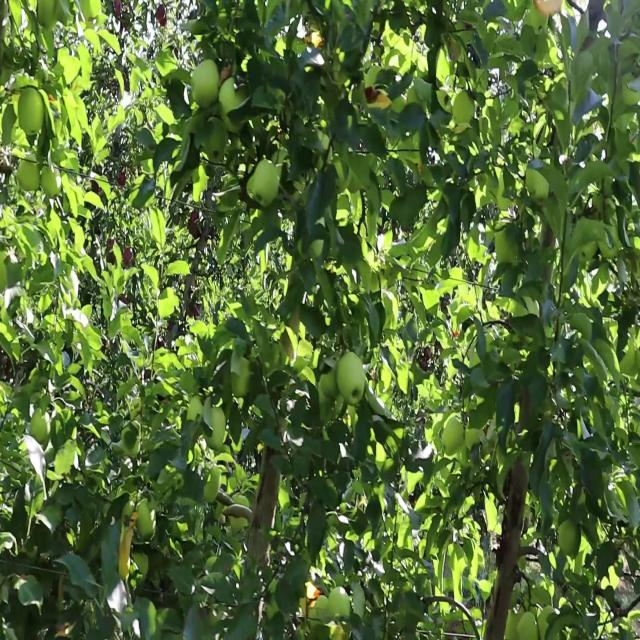apple: (218, 78, 248, 132), (336, 352, 366, 404), (191, 58, 219, 107), (18, 88, 44, 136), (253, 160, 279, 208), (203, 117, 226, 163), (526, 163, 549, 204), (558, 520, 582, 558), (441, 417, 463, 458), (16, 154, 39, 192), (206, 406, 226, 449), (136, 498, 156, 539), (537, 606, 560, 640), (30, 408, 51, 445), (452, 90, 475, 123), (233, 359, 252, 398), (330, 586, 350, 622), (41, 164, 62, 198), (203, 466, 221, 504), (518, 606, 538, 640), (320, 358, 337, 398), (330, 158, 348, 194), (186, 395, 204, 423), (38, 0, 56, 28), (314, 595, 329, 621)
